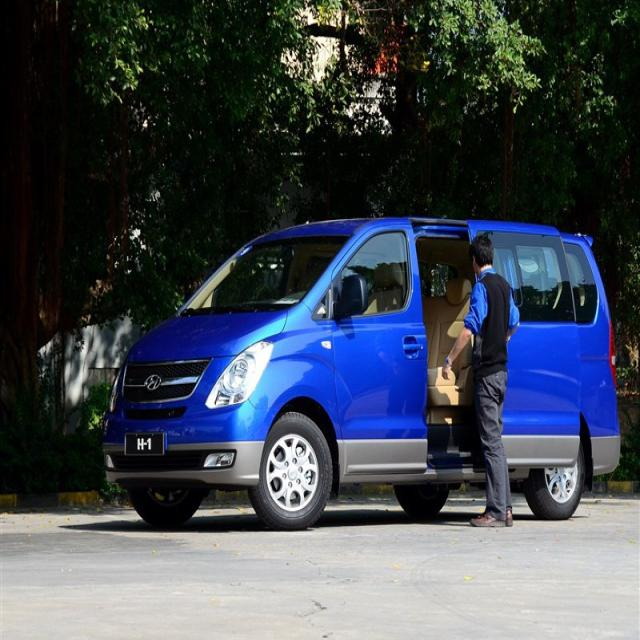front_bumper: (101, 382, 268, 487)
front_glass: (193, 226, 351, 315)
front_left_side_door: (327, 214, 433, 482)
front_left_side_light: (209, 341, 272, 410)
front_left_side_mirror: (330, 271, 370, 319)
wheel: (254, 409, 333, 524)
